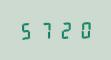five: (18, 20, 35, 40)
seven: (36, 20, 53, 40)
two: (54, 20, 71, 39)
zero: (72, 19, 89, 39)
